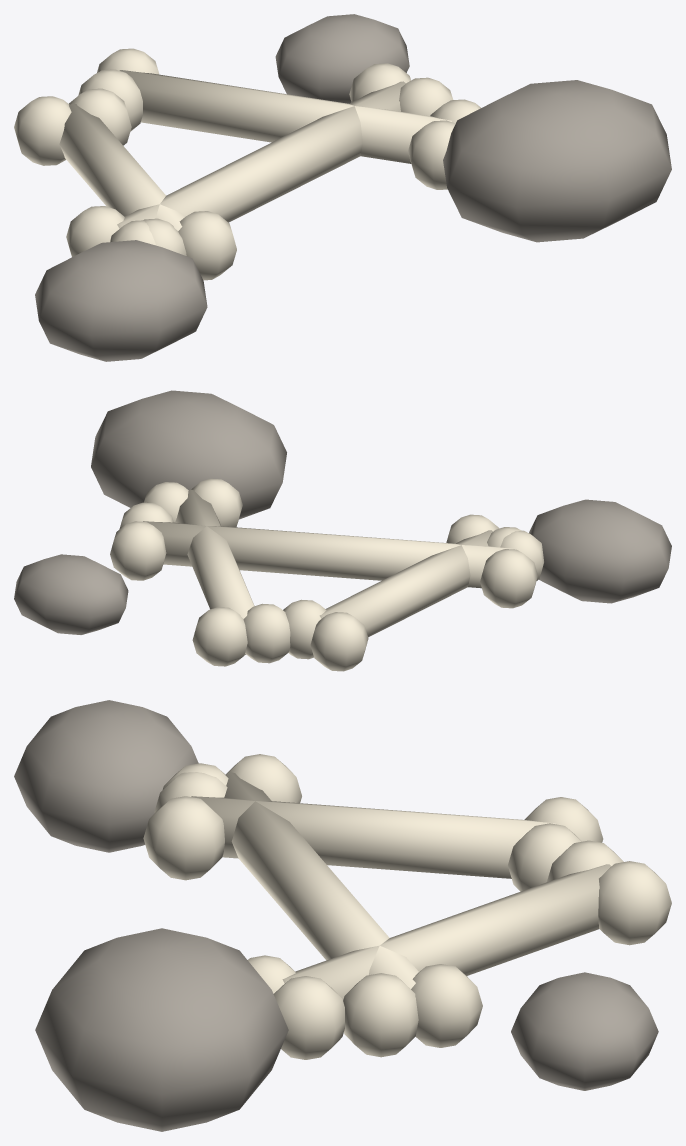
The model's file is ossos.glb.
The picture shows the model from 3 angles, top to bottom: view 1: azimuth 30°, elevation 25°; view 2: azimuth 150°, elevation 25°; view 3: azimuth 270°, elevation 25°; orthographic projection. The views are drawn at different scales.
Visible parts, largest first — view 1: Ossos.001; view 2: Ossos.001; view 3: Ossos.001.
Boxes of the visible parts, x1,y1,x2,y2 form: Ossos.001: (14,14,671,361); Ossos.001: (14,390,671,671); Ossos.001: (14,700,671,1131).
Bounding box in the file's own units: 0.852 × 0.168 × 0.6225.
